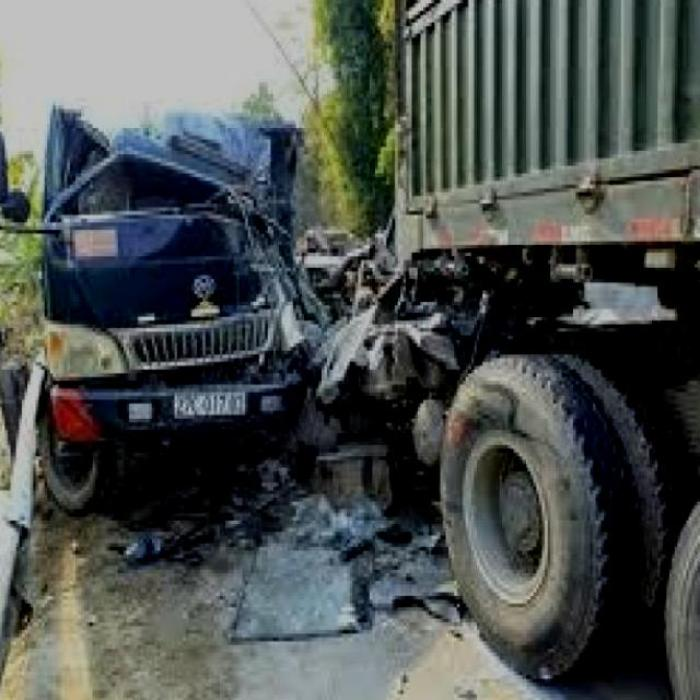Accident: (33, 63, 697, 564)
